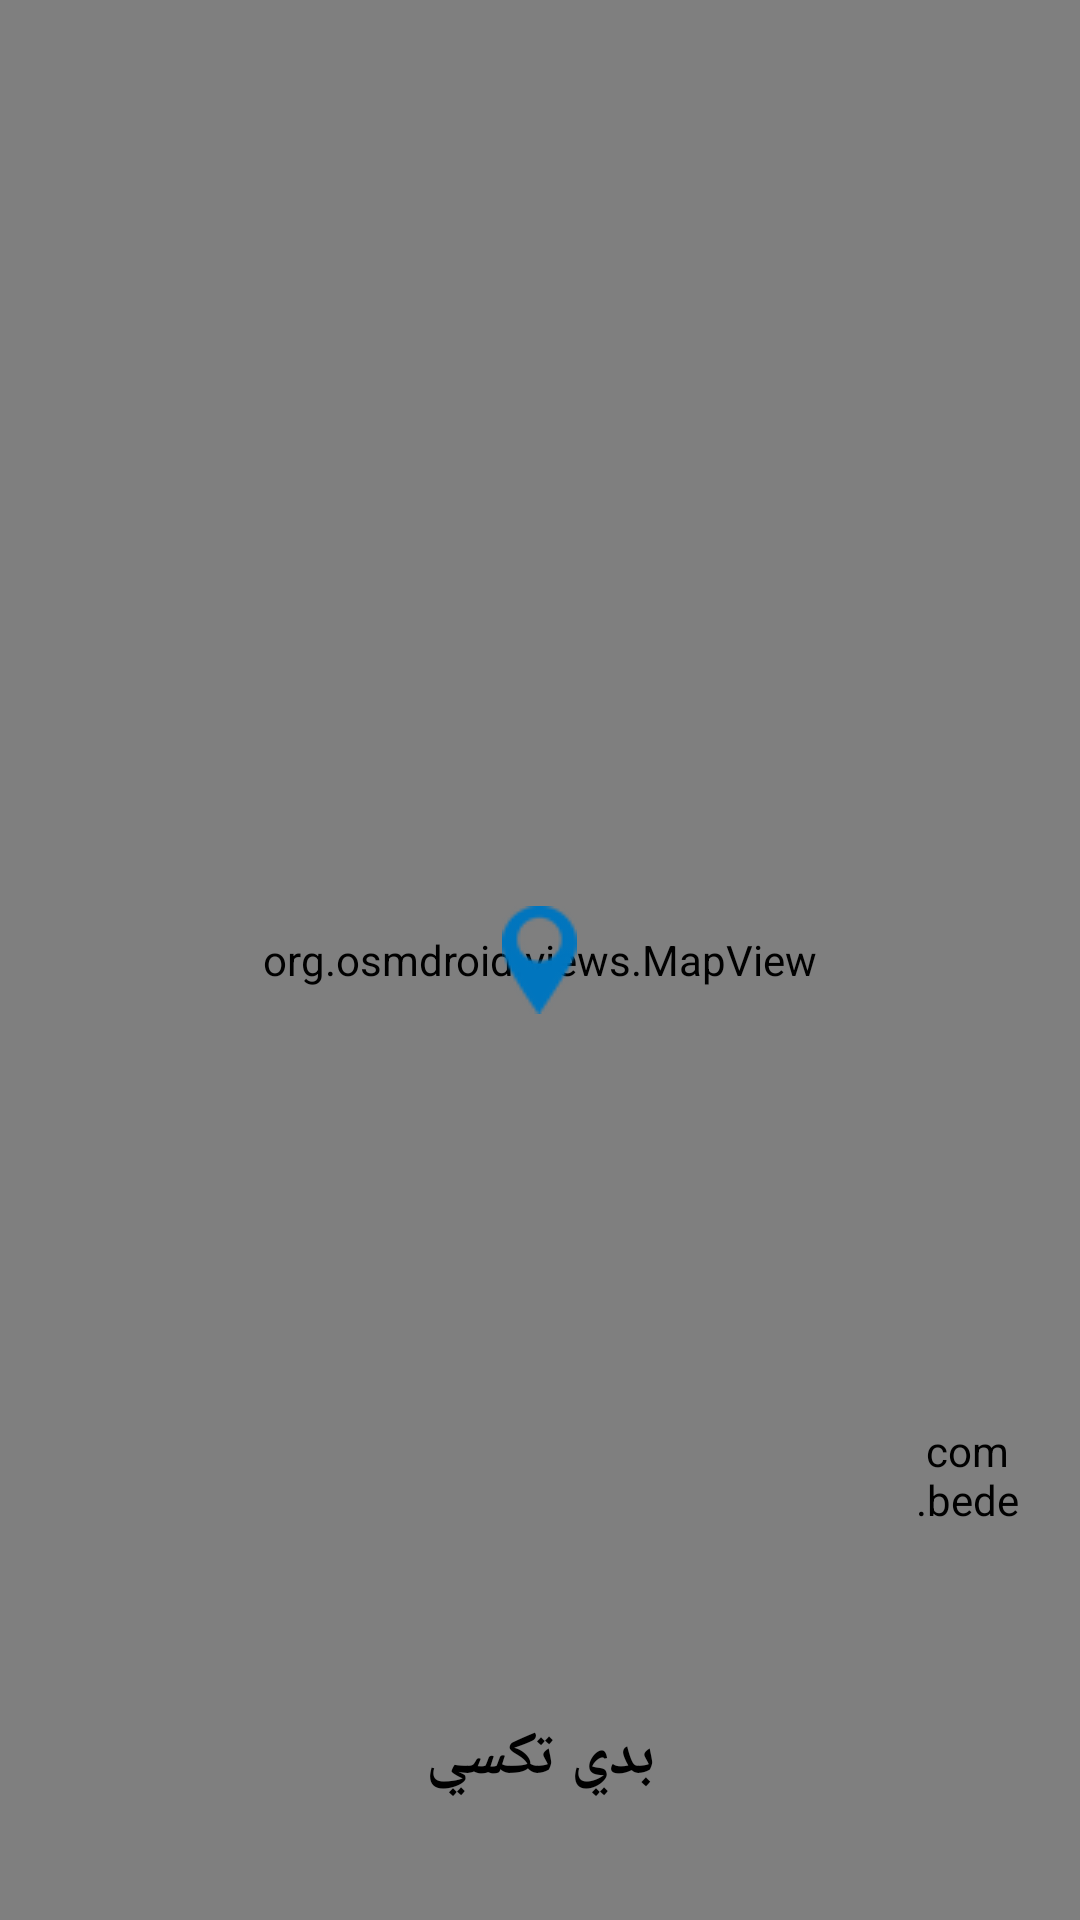

Locate icon controls on the screen. Image size 1080w x 1920h, boxes as (x1, y1, x2, y2).
userlocation: (502, 906, 577, 1014)
